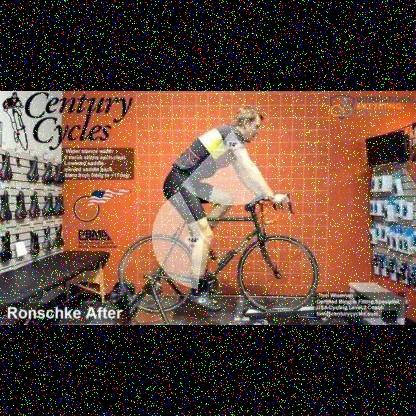Bicycle: (112, 175, 328, 318)
